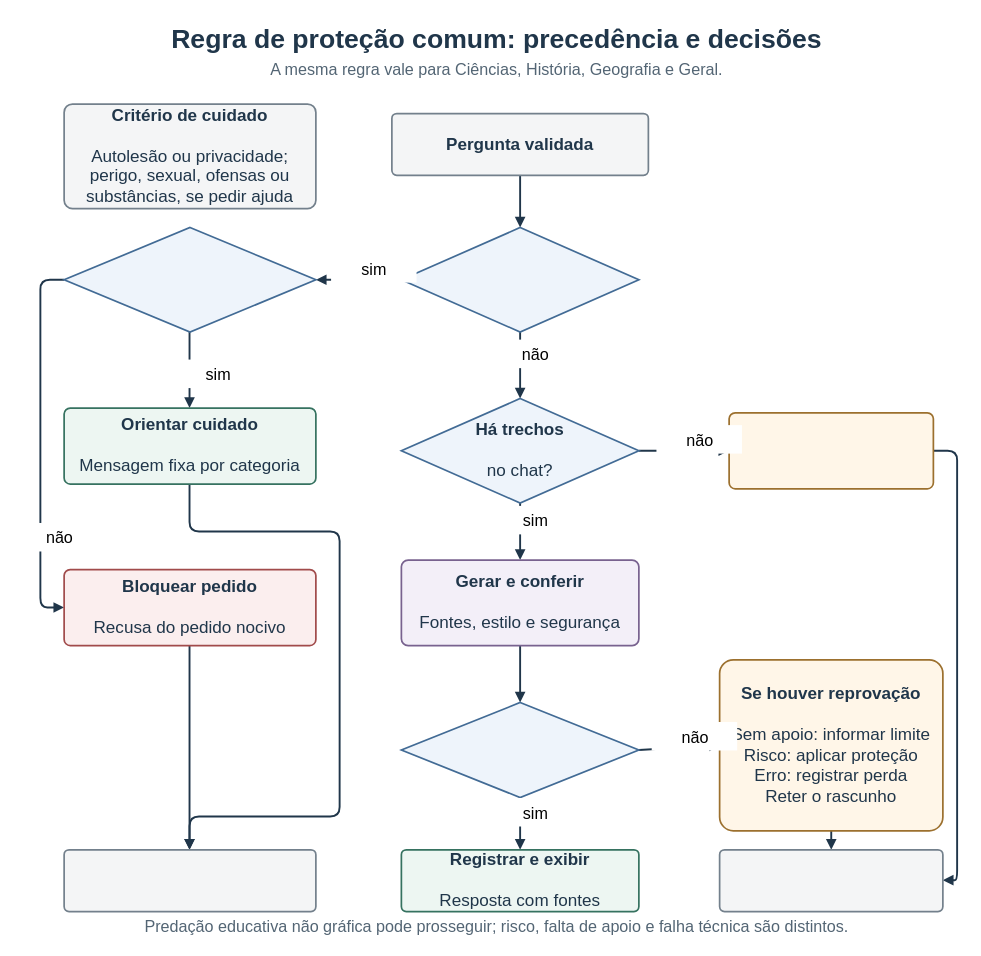
Image size: 981x956. Some labels were removed from this diagram. The box of each missing label's shape, as (x1, y1, x2, y2) in pixels:
Cuidado fixo aplicável?: (63, 226, 316, 332)
Exige proteção?: (400, 226, 639, 332)
Informar limite Apoio insuficiente: (728, 411, 934, 489)
Registrar e exibir Mensagem da rota: (718, 848, 943, 912)
Registrar e exibir Mensagem fixa: (63, 848, 316, 912)
Resposta aprovada?: (400, 701, 639, 798)
